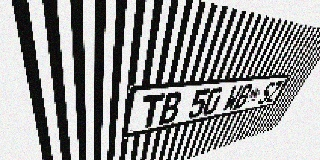0: (201, 87, 224, 116)
5: (187, 88, 211, 119)
B: (158, 91, 183, 125), (233, 84, 254, 110)
S: (257, 81, 276, 105)
T: (139, 93, 165, 129)
W: (222, 85, 244, 112)
Z: (265, 81, 284, 103)
